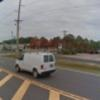buses: (14, 52, 57, 79)
